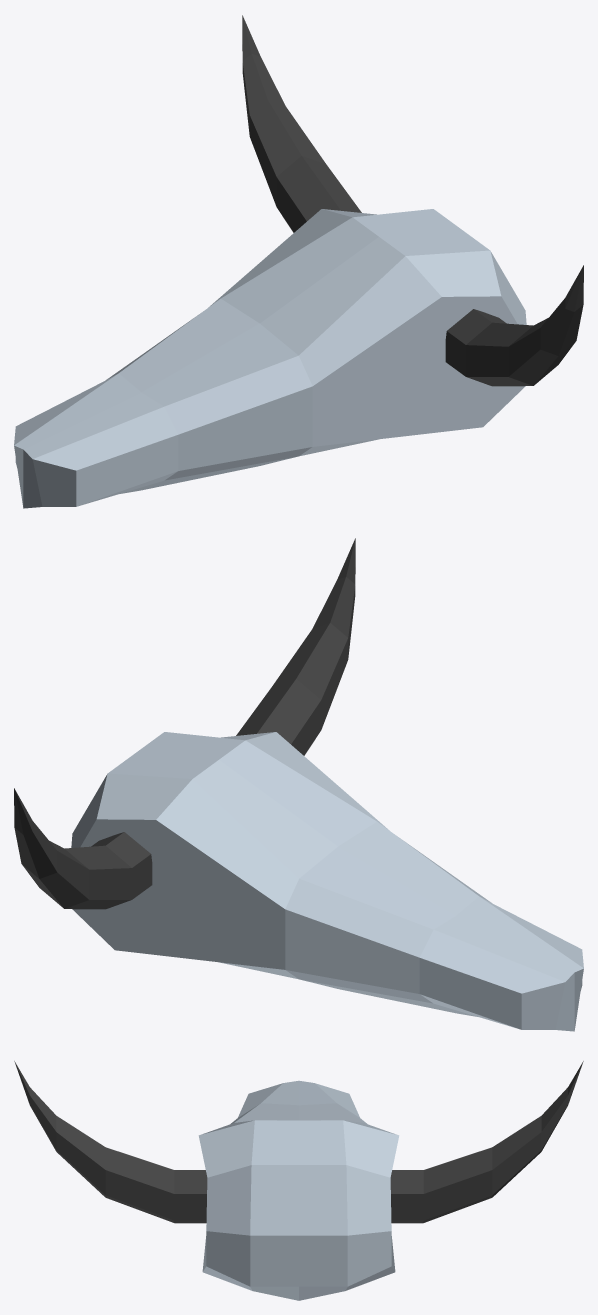
File: Desert_DeadHead.fbx
3 renders of one model, top to bottom at view 1: azimuth 30°, elevation 25°; view 2: azimuth 150°, elevation 25°; view 3: azimuth 270°, elevation 25°, orthographic. The views are drawn at different scales.
Visible parts, largest first — view 1: Skull; view 2: Skull; view 3: Skull.
Boxes of the visible parts, x1,y1,x2,y2 form: Skull: [14, 15, 583, 508]; Skull: [14, 538, 583, 1031]; Skull: [14, 1061, 583, 1300].
Bounding box in the file's own units: 337 × 197 × 422.
